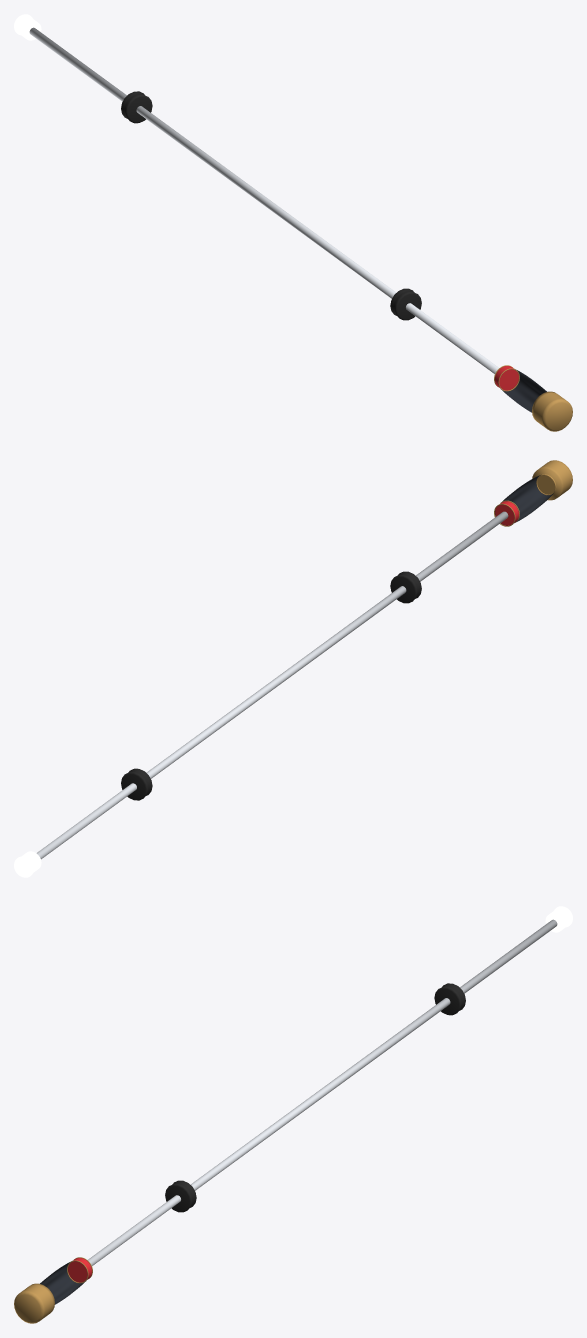
File: fuzeball_rod_5man.glb
The picture shows the model from 3 angles, top to bottom: view 1: azimuth 30°, elevation 25°; view 2: azimuth 150°, elevation 25°; view 3: azimuth 330°, elevation 25°; orthographic projection.
Visible parts, largest first — view 1: rod5_bar.002, rod5_knob.002, rod5_handle_comet_grip, CylinderL, CylinderR; view 2: rod5_bar.002, rod5_handle_comet_grip, rod5_knob.002, CylinderL, CylinderR, rod5_collar.001; view 3: rod5_bar.002, rod5_knob.002, rod5_handle_comet_grip, CylinderL, CylinderR.
Part boxes in pixels (bbox=[...]): rod5_bar.002: bbox=[29, 27, 498, 373]; rod5_knob.002: bbox=[532, 391, 572, 431]; rod5_handle_comet_grip: bbox=[502, 369, 546, 412]; CylinderL: bbox=[390, 288, 421, 320]; CylinderR: bbox=[121, 91, 152, 123]; rod5_bar.002: bbox=[36, 511, 508, 859]; rod5_handle_comet_grip: bbox=[495, 475, 553, 525]; rod5_knob.002: bbox=[532, 460, 572, 500]; CylinderL: bbox=[390, 571, 421, 603]; CylinderR: bbox=[121, 768, 152, 800]; rod5_collar.001: bbox=[14, 851, 41, 877]; rod5_bar.002: bbox=[88, 919, 557, 1265]; rod5_knob.002: bbox=[14, 1283, 54, 1323]; rod5_handle_comet_grip: bbox=[40, 1261, 84, 1304]; CylinderL: bbox=[165, 1180, 196, 1212]; CylinderR: bbox=[434, 983, 465, 1015].
Bounding box in the file's own units: 3.4 × 3.4 × 106.
